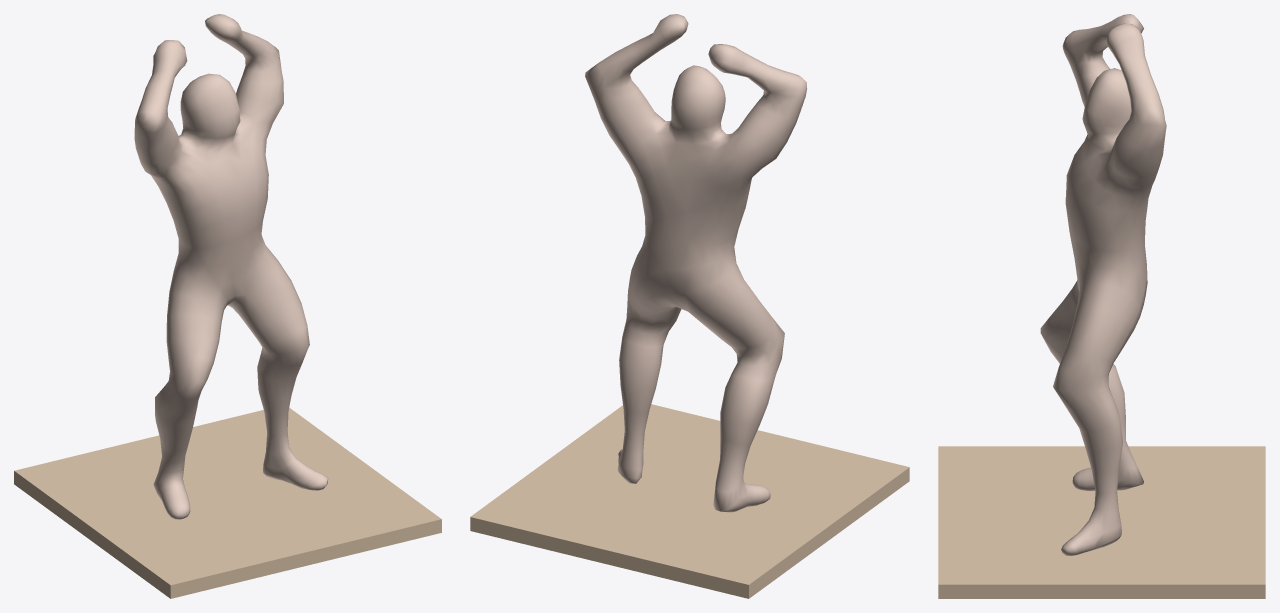
File: gog_haeminsculpy_mesh.fbx
3 views of the same model, side by side, from view 1: azimuth 30°, elevation 25°; view 2: azimuth 150°, elevation 25°; view 3: azimuth 270°, elevation 25° (orthographic). The views are drawn at different scales.
Parts seen in each view (by area): view 1: pPipe12; view 2: pPipe12; view 3: pPipe12.
Part boxes in pixels (left/top/right/bottom): pPipe12: left=14, top=14, right=441, bottom=598; pPipe12: left=470, top=14, right=909, bottom=598; pPipe12: left=938, top=14, right=1265, bottom=598.
Size of the model in its own units: 32.66 by 55.7 by 32.66.
